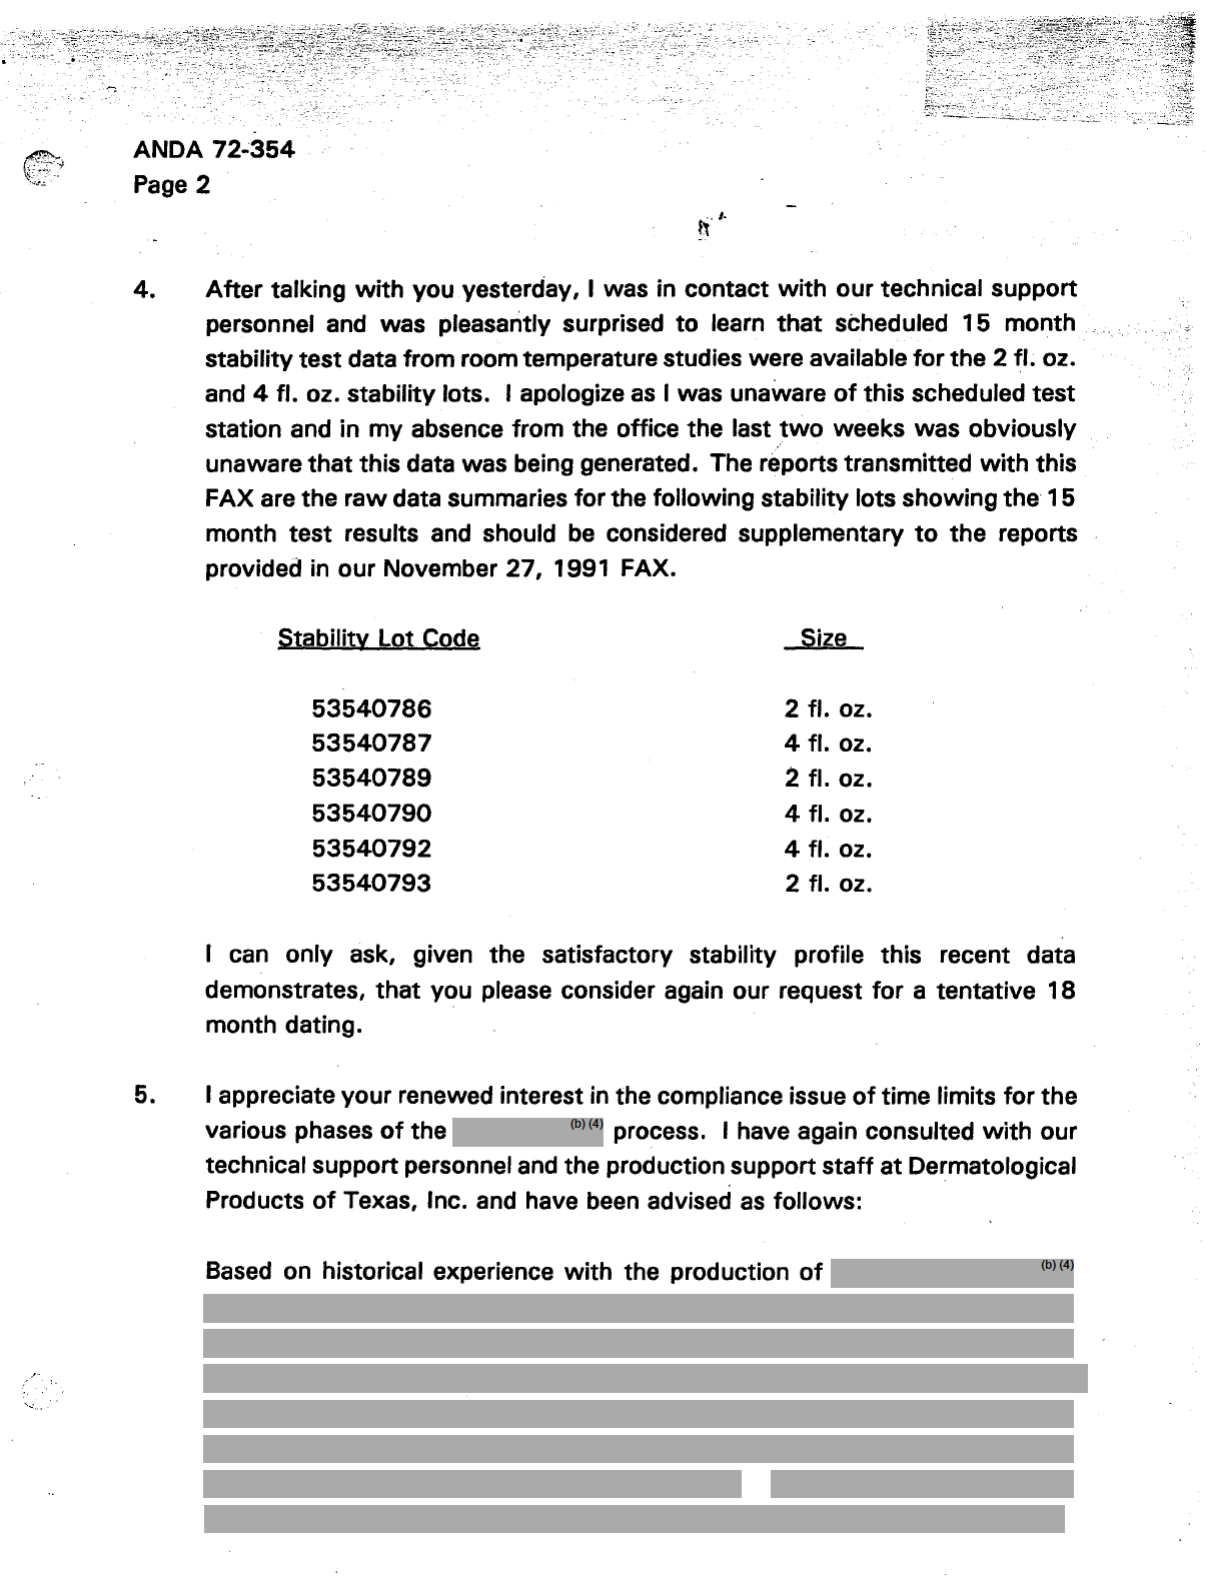nolines: (276, 624, 877, 900)
